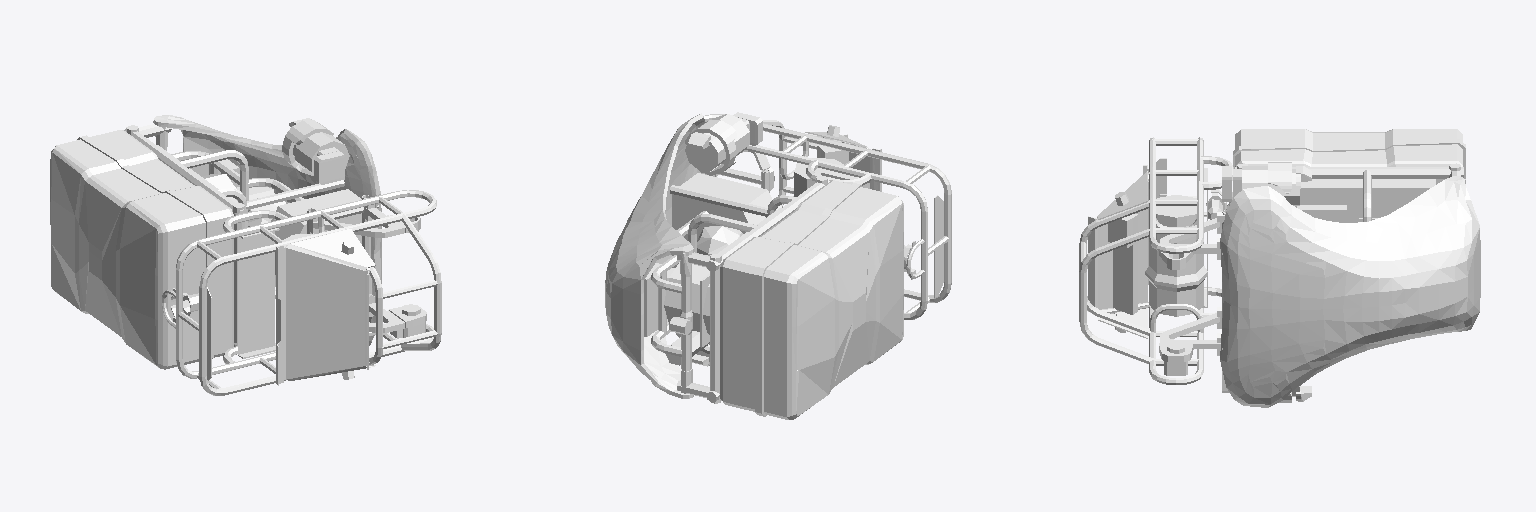
The model's file is utorso.obj.
3 renders of one model, left to right at view 1: azimuth 30°, elevation 25°; view 2: azimuth 150°, elevation 25°; view 3: azimuth 270°, elevation 25°, orthographic.
Visible parts, largest first — view 1: utorso_utorsoMesh; view 2: utorso_utorsoMesh; view 3: utorso_utorsoMesh.
Boxes of the visible parts, x1=… form: utorso_utorsoMesh: x1=50, y1=115, x2=441, y2=395; utorso_utorsoMesh: x1=605, y1=112, x2=951, y2=419; utorso_utorsoMesh: x1=1079, y1=129, x2=1480, y2=407.
Size of the model in its own units: 0.6238 by 0.5601 by 0.8599.